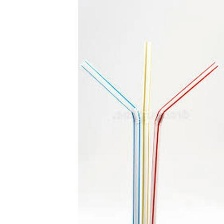drinking_straw: (150, 58, 222, 224), (77, 55, 141, 223), (138, 36, 154, 223)
